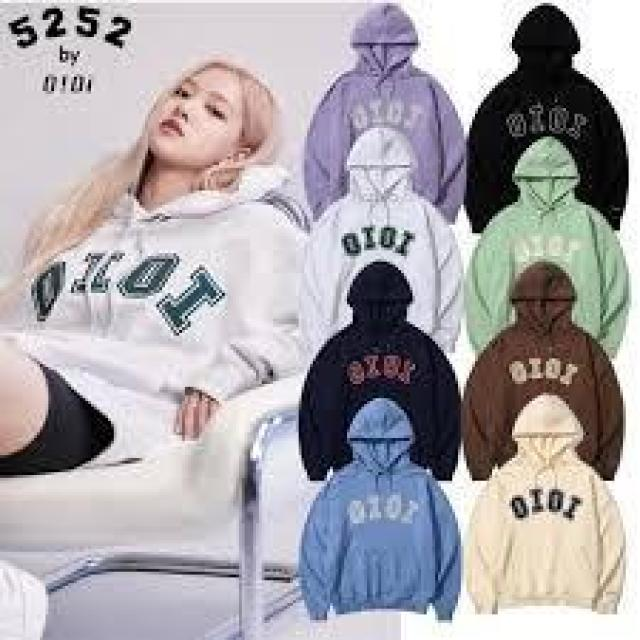sweater: (12, 160, 308, 457), (296, 401, 464, 623), (465, 391, 624, 613), (465, 264, 624, 466), (306, 263, 459, 465)
